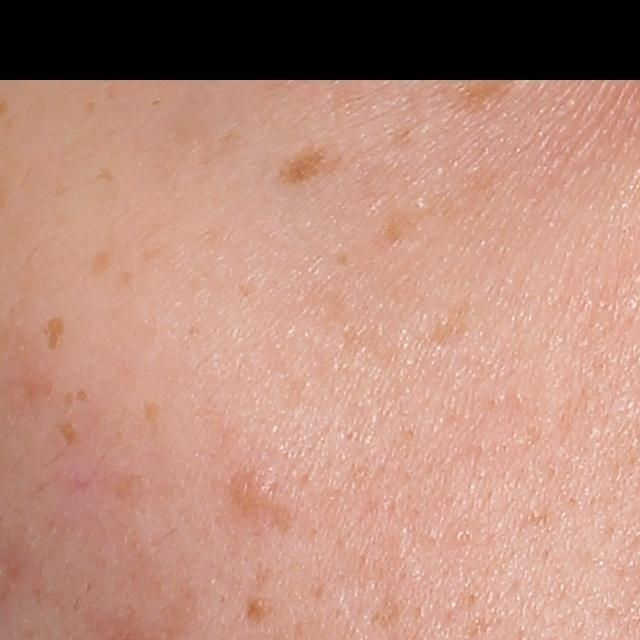melasma: (438, 58, 525, 122), (262, 129, 353, 190), (40, 315, 68, 353), (85, 244, 114, 279), (56, 418, 78, 451), (91, 163, 121, 187), (74, 388, 90, 405)
papule: (227, 462, 270, 514)
